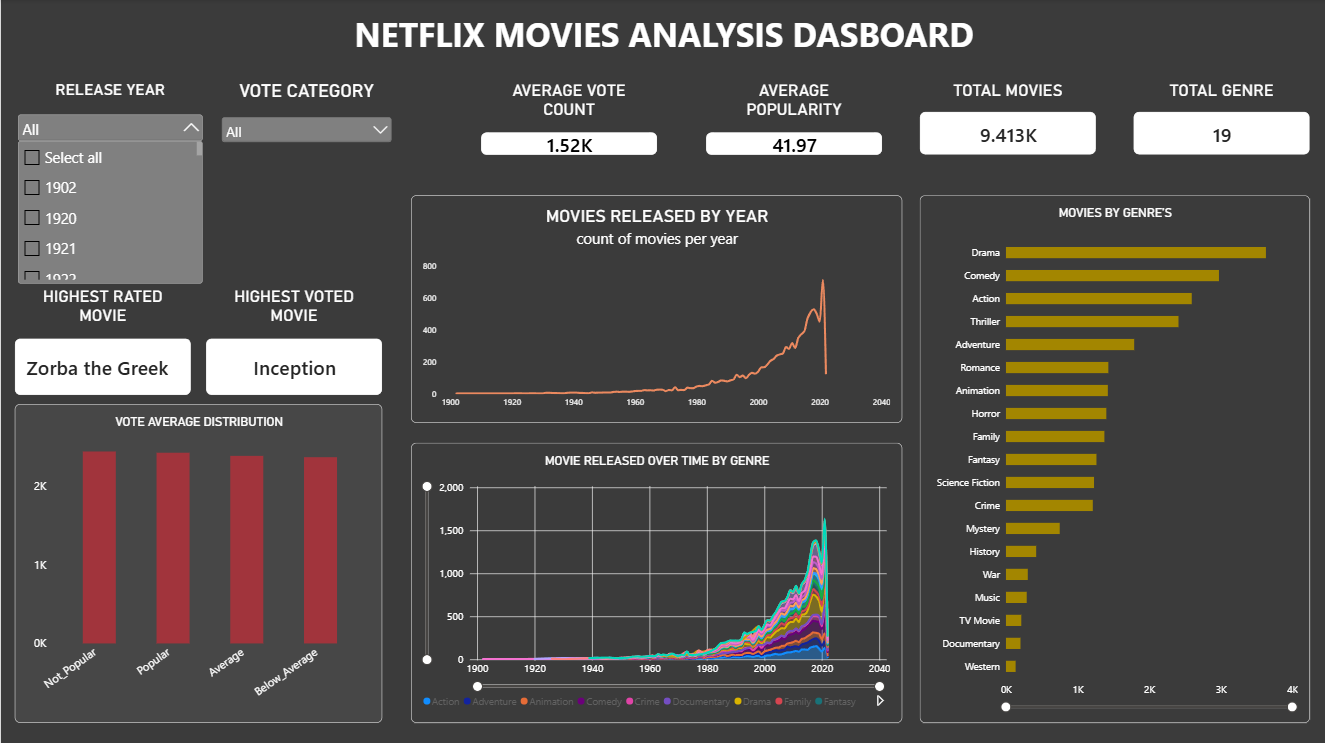

This screenshot's page, from the dashboard's own definition file:
{"tool":"powerbi","page":{"name":"Page 1","canvas":[1920,1080],"ordinal":0},"visuals":[{"type":"textbox","box":[0,18.1,1920.1,83.2],"z":0},{"type":"cardVisual","title":"AVERAGE POPULARITY","fields":{"Data":["Avg(netflix_movies movies.Popularity)"]},"box":[1020.6,117.6,255.2,108.6],"z":1000},{"type":"slicer","title":"RELEASE YEAR","fields":{"Values":["netflix_movies movies.Release_Date"]},"box":[19.9,117.6,276.9,150.2],"z":2000},{"type":"cardVisual","title":"TOTAL GENRE","fields":{"Data":["Count(netflix_movies movies.Genre)"]},"box":[1639.6,117.6,255.2,108.6],"z":3000},{"type":"cardVisual","title":"TOTAL MOVIES","fields":{"Data":["Count(netflix_movies movies.Title)"]},"box":[1330.1,117.6,255.2,108.6],"z":4000},{"type":"slicer","title":"VOTE CATEGORY","fields":{"Values":["netflix_movies movies.Vote_Average"]},"box":[314.9,117.6,255.2,191.8],"z":5000},{"type":"lineChart","title":"MOVIES RELEASED BY YEAR","fields":{"Y":["Count(netflix_movies movies.Title)"],"Category":["netflix_movies movies.Release_Date"]},"box":[593.6,284.1,711.2,329.4],"z":6000},{"type":"clusteredBarChart","title":"MOVIES BY GENRE''S","fields":{"Category":["netflix_movies movies.Genre"],"Y":["Count(netflix_movies movies.Title)"]},"box":[1330.1,284.1,564.6,763.7],"z":7000},{"type":"cardVisual","title":"HIGHEST RATED MOVIE","fields":{"Data":["netflix_movies movies.Highest Rated Movie"]},"box":[19.9,416.2,255.2,157.4],"z":8000},{"type":"cardVisual","title":"HIGHEST VOTED MOVIE","fields":{"Data":["netflix_movies movies.Most Voted Movie"]},"box":[296.8,416.2,255.2,157.4],"z":9000},{"type":"clusteredColumnChart","title":"VOTE AVERAGE DISTRIBUTION","fields":{"Category":["netflix_movies movies.Vote_Average"],"Y":["Count(netflix_movies movies.Title)"]},"box":[19.9,586.3,532,461.5],"z":10000},{"type":"stackedAreaChart","title":"MOVIE RELEASED OVER TIME BY GENRE","fields":{"Category":["netflix_movies movies.Release_Date"],"Y":["CountNonNull(netflix_movies movies.Title)"],"Series":["netflix_movies movies.Genre"]},"box":[593.6,642.4,711.2,405.4],"z":11000},{"type":"cardVisual","title":"AVERAGE VOTE COUNT","fields":{"Data":["Avg(netflix_movies movies.Vote_Count)"]},"box":[694.9,117.6,255.2,108.6],"z":12000}]}

Visuals, with their boxes in screenshot pixels (x1, y1, x2, y2), scaled from the page's 1920x1080 canvas onto the 1325x743 screenshot:
textbox: locate(0, 12, 1324, 70)
"AVERAGE POPULARITY" cardVisual: locate(704, 81, 880, 156)
"RELEASE YEAR" slicer: locate(14, 81, 205, 184)
"TOTAL GENRE" cardVisual: locate(1131, 81, 1308, 156)
"TOTAL MOVIES" cardVisual: locate(918, 81, 1094, 156)
"VOTE CATEGORY" slicer: locate(217, 81, 393, 213)
"MOVIES RELEASED BY YEAR" lineChart: locate(410, 195, 900, 422)
"MOVIES BY GENRE''S" clusteredBarChart: locate(918, 195, 1308, 721)
"HIGHEST RATED MOVIE" cardVisual: locate(14, 286, 190, 395)
"HIGHEST VOTED MOVIE" cardVisual: locate(205, 286, 381, 395)
"VOTE AVERAGE DISTRIBUTION" clusteredColumnChart: locate(14, 403, 381, 721)
"MOVIE RELEASED OVER TIME BY GENRE" stackedAreaChart: locate(410, 442, 900, 721)
"AVERAGE VOTE COUNT" cardVisual: locate(480, 81, 656, 156)
